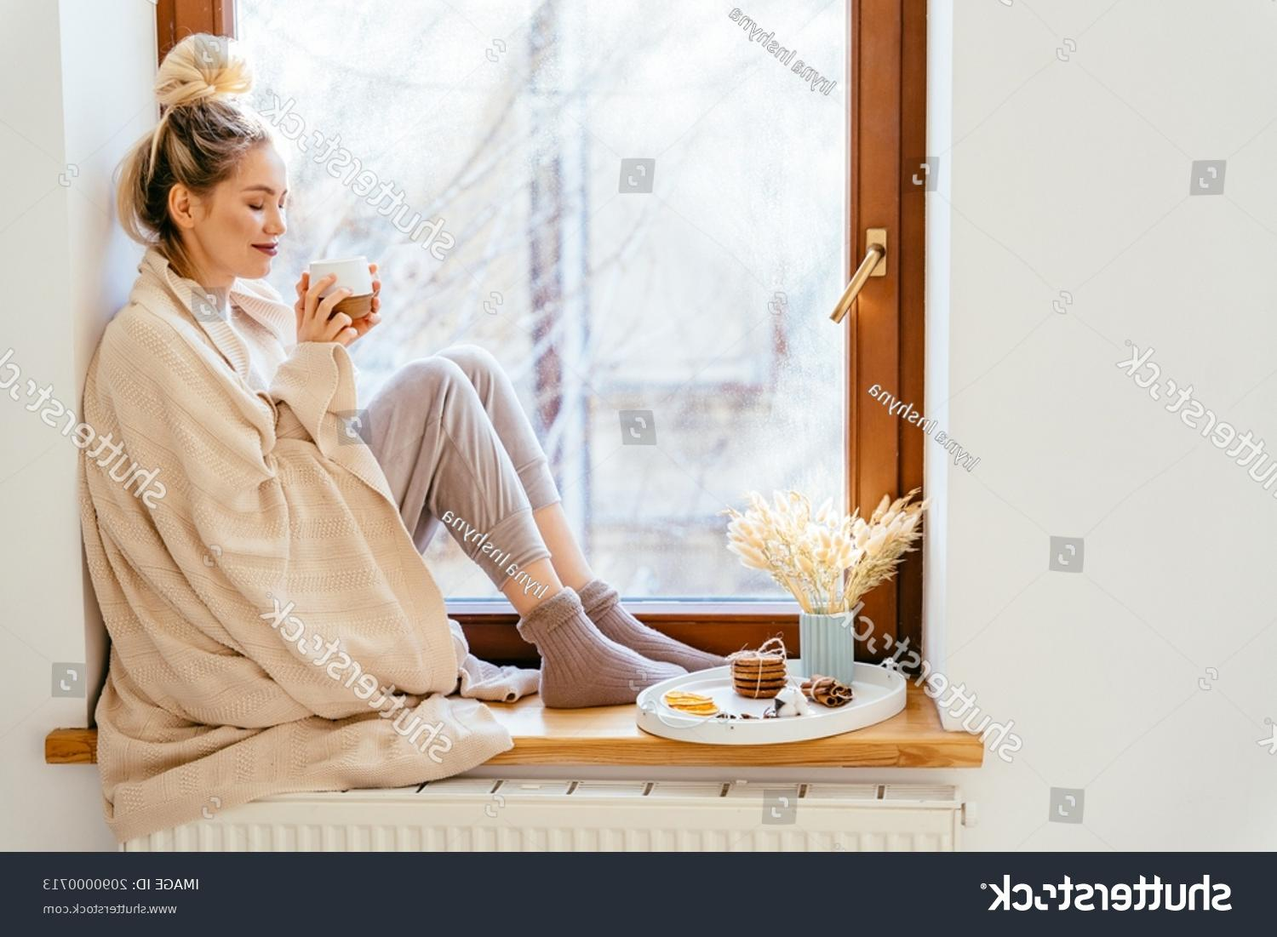blanket: (72, 224, 543, 843)
trousers: (335, 337, 564, 580)
